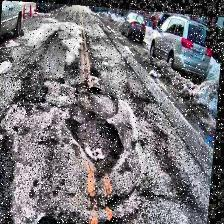pothole: (67, 68, 137, 180)
